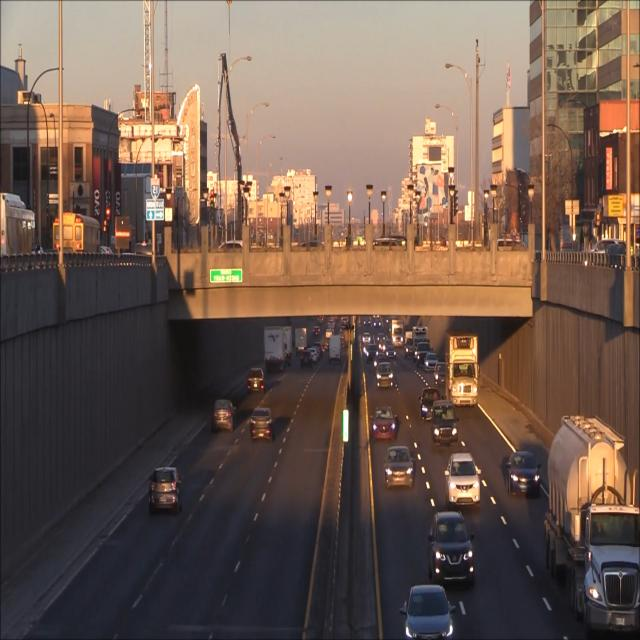Vehicle: (547, 413, 640, 640), (426, 512, 474, 589), (444, 328, 478, 409), (444, 451, 482, 510), (503, 449, 541, 501), (149, 466, 183, 515), (432, 400, 459, 453), (383, 445, 414, 489), (370, 408, 397, 444), (210, 397, 235, 434), (250, 407, 275, 442), (418, 386, 440, 422), (246, 365, 265, 396), (375, 362, 394, 390), (433, 361, 446, 387)
